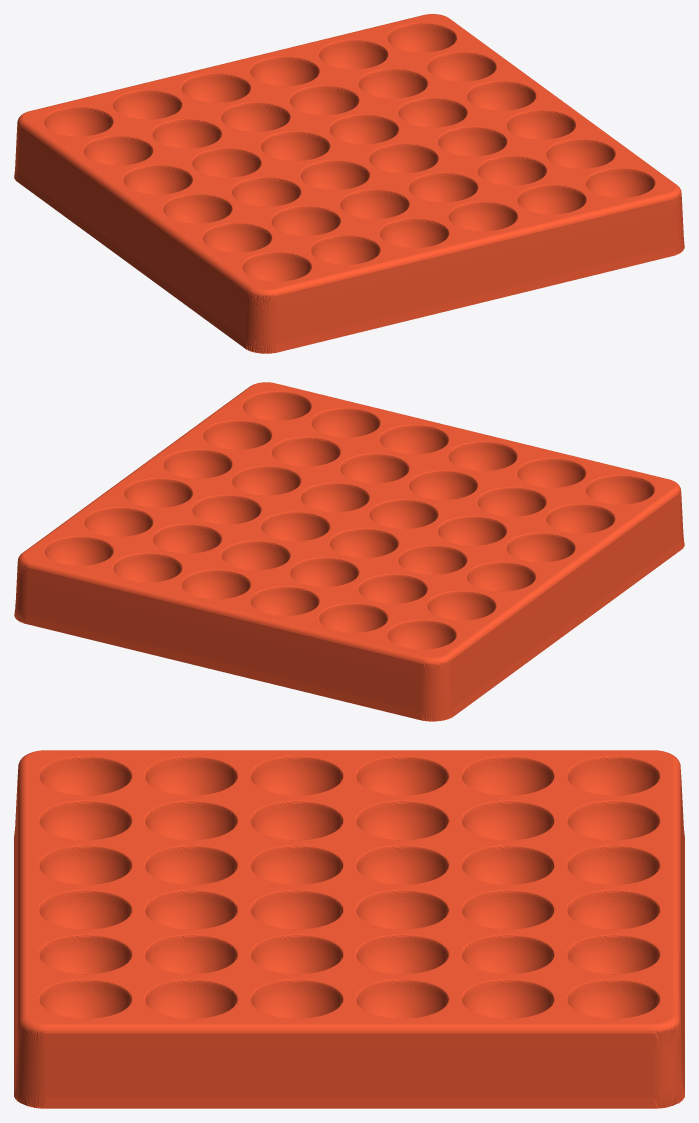
The model's file is mold.glb.
3 views of the same model, one above another, from view 1: azimuth 30°, elevation 25°; view 2: azimuth 150°, elevation 25°; view 3: azimuth 270°, elevation 25° (orthographic). The views are drawn at different scales.
Parts seen in each view (by area): view 1: geometry_0; view 2: geometry_0; view 3: geometry_0.
Part boxes in pixels (<box>): geometry_0: <box>14,14,684,353</box>; geometry_0: <box>14,382,684,721</box>; geometry_0: <box>14,750,684,1108</box>.
Size of the model in its own units: 0.1877 by 0.0246 by 0.1877.
